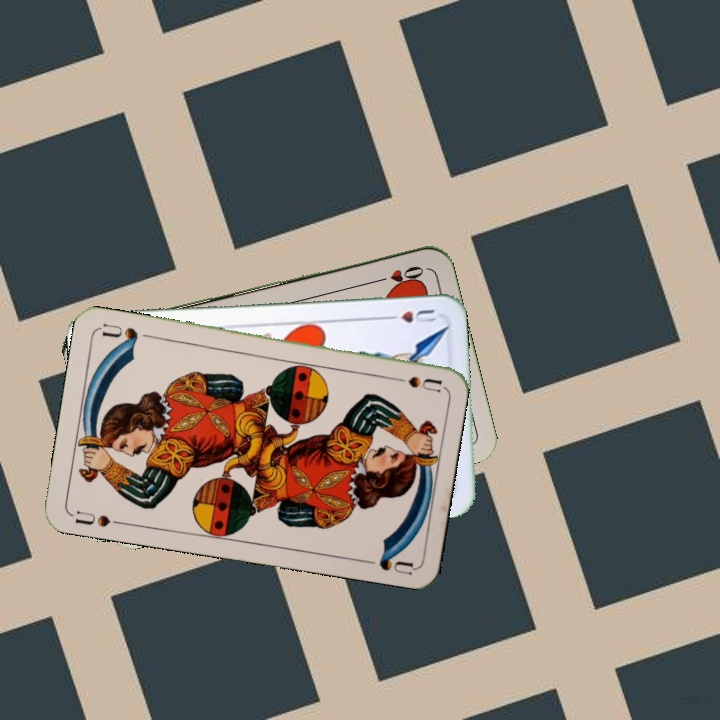HO: (369, 262, 427, 286)
HU: (381, 305, 438, 326)
SU: (68, 506, 127, 530), (384, 372, 444, 395)
